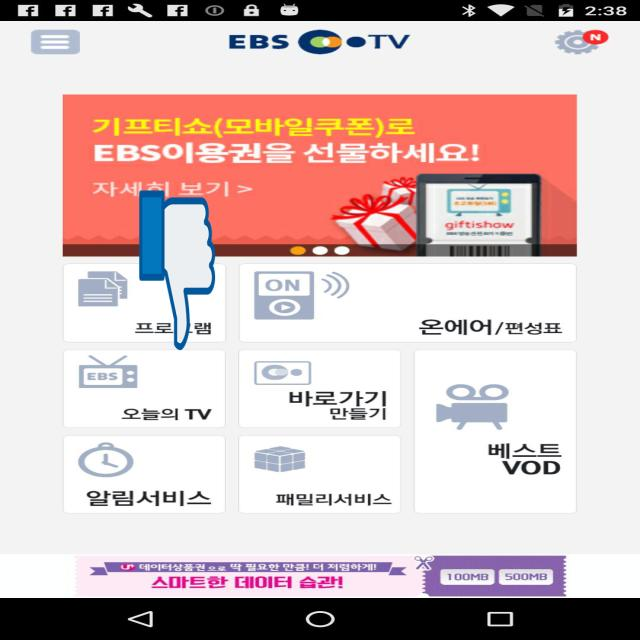obstruction: (139, 187, 215, 354)
